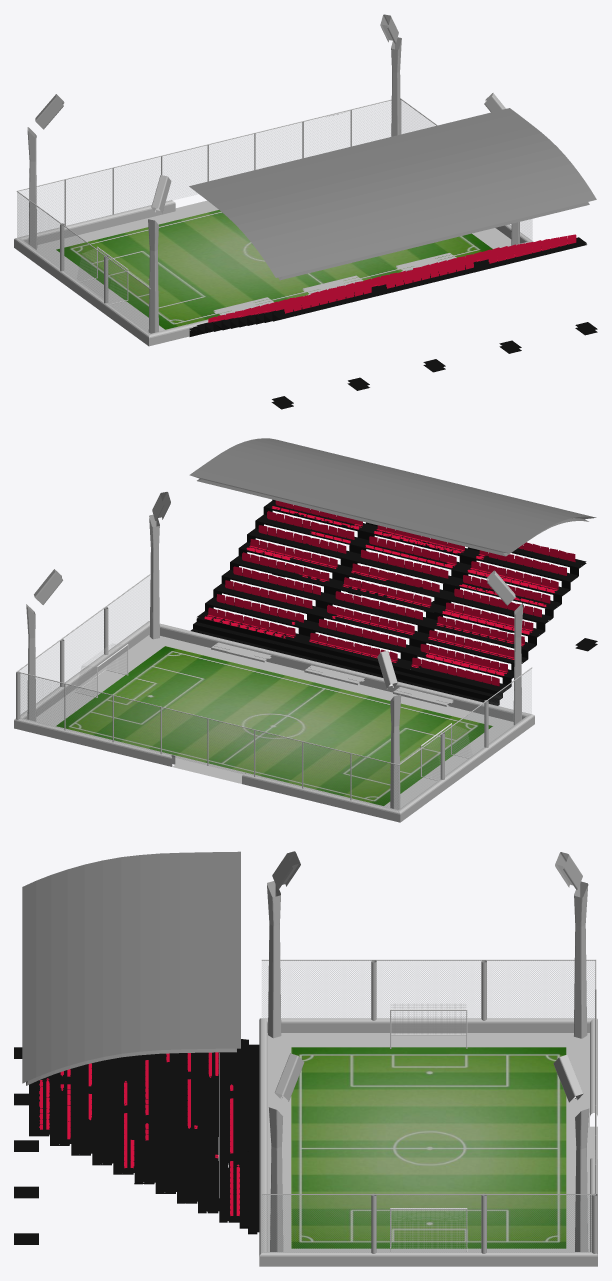
The model's file is football-court.glb.
The picture shows the model from 3 angles, top to bottom: view 1: azimuth 30°, elevation 25°; view 2: azimuth 150°, elevation 25°; view 3: azimuth 270°, elevation 25°; orthographic projection. The views are drawn at different scales.
Parts seen in each view (by area): view 1: court_struct, court_court_0, court_fence; view 2: court_struct, court_court_0, court_fence, court_goalnets; view 3: court_struct, court_court_0, court_fence, court_goalnets.
Boxes of the visible parts, x1,y1,x2,y2 form: court_struct: (14,14,597,409); court_court_0: (56,210,492,329); court_fence: (17,100,531,333); court_struct: (14,438,597,822); court_court_0: (56,646,492,805); court_fence: (19,576,531,811); court_goalnets: (76,643,471,772); court_struct: (14,851,597,1266); court_court_0: (291,1047,566,1248); court_fence: (262,961,594,1252); court_goalnets: (390,1003,466,1251).
Bounding box in the file's own units: 26.5 × 10.32 × 27.6.
4 materials, 4 textured.
